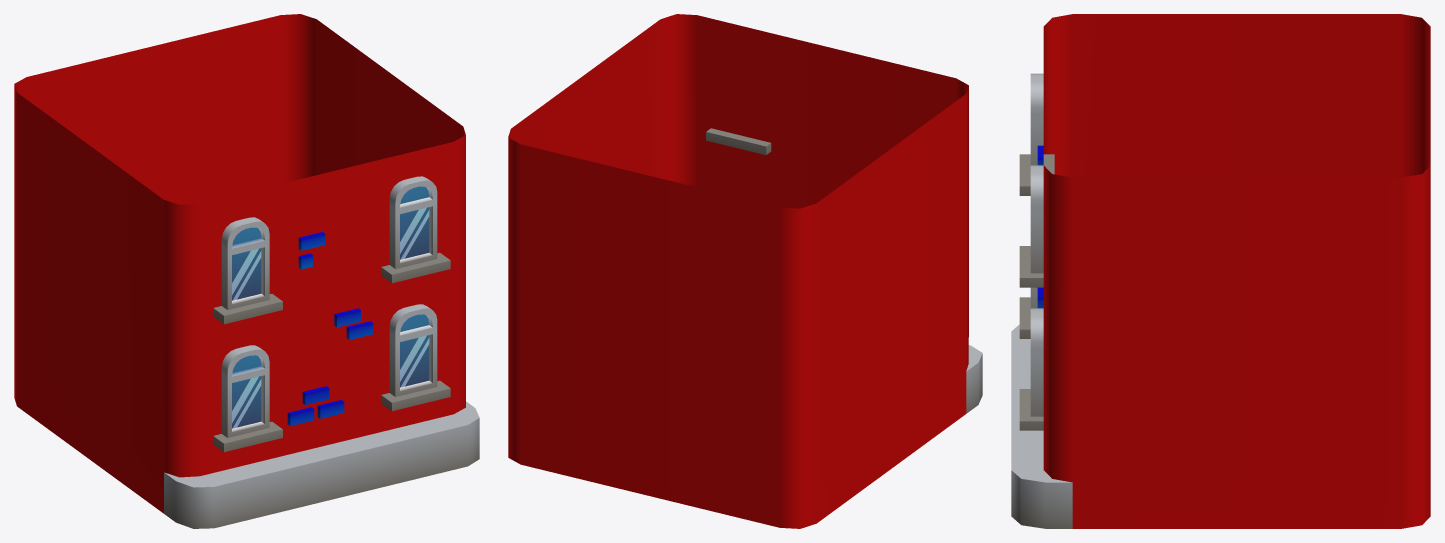
The model's file is House 1 Floor.fbx.
3 views of the same model, side by side, from view 1: azimuth 30°, elevation 25°; view 2: azimuth 150°, elevation 25°; view 3: azimuth 270°, elevation 25° (orthographic). The views are drawn at different scales.
Parts seen in each view (by area): view 1: House1_floor; view 2: House1_floor; view 3: House1_floor.
Part boxes in pixels (x1=…): House1_floor: x1=14, y1=14, x2=479, y2=528; House1_floor: x1=508, y1=14, x2=982, y2=528; House1_floor: x1=1011, y1=14, x2=1430, y2=528.
Bounding box in the file's own units: 100 × 100 × 108.
